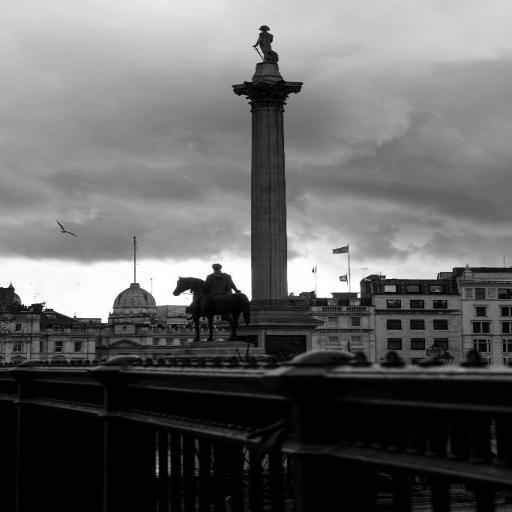horse: (172, 275, 250, 340)
